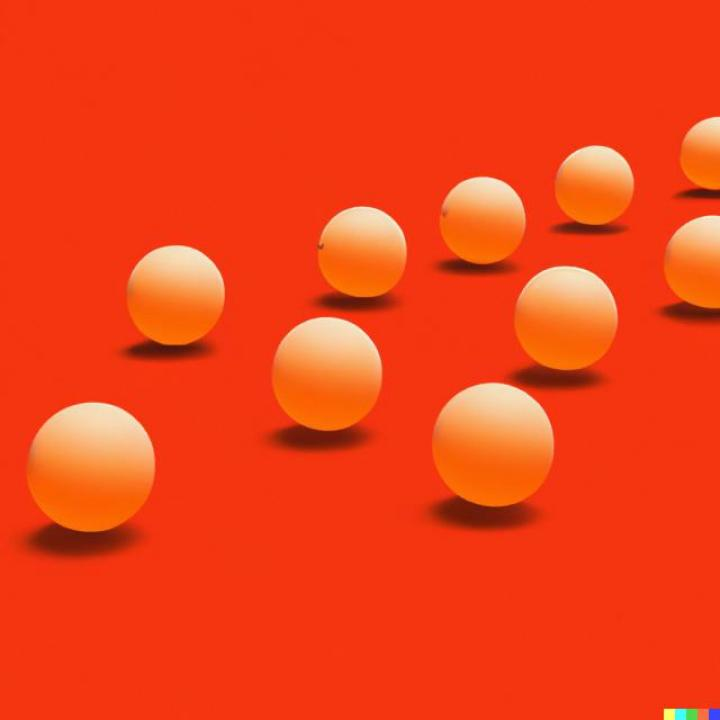orange: (26, 402, 154, 532), (436, 384, 554, 509), (274, 315, 383, 431), (514, 265, 618, 371), (127, 246, 224, 345), (319, 207, 407, 297), (439, 176, 524, 264), (554, 145, 634, 226), (665, 215, 720, 309), (678, 116, 720, 192)
